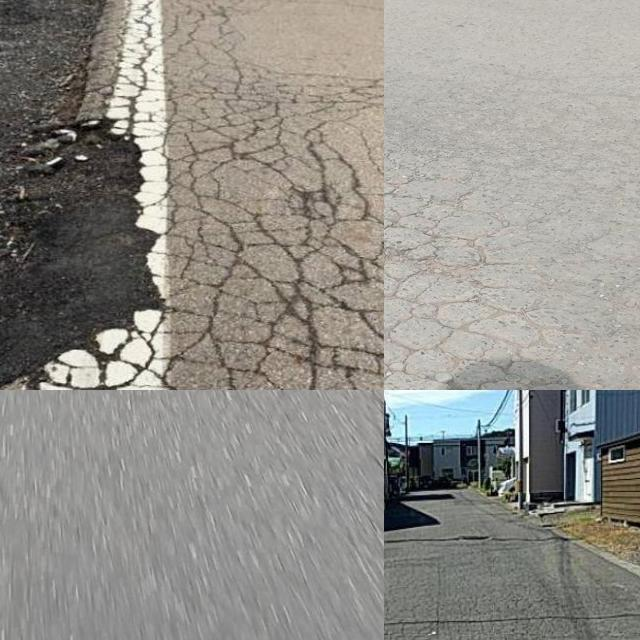Pinggir: (0, 120, 166, 390)
Retak Buaya: (0, 0, 384, 390), (384, 144, 569, 390)
